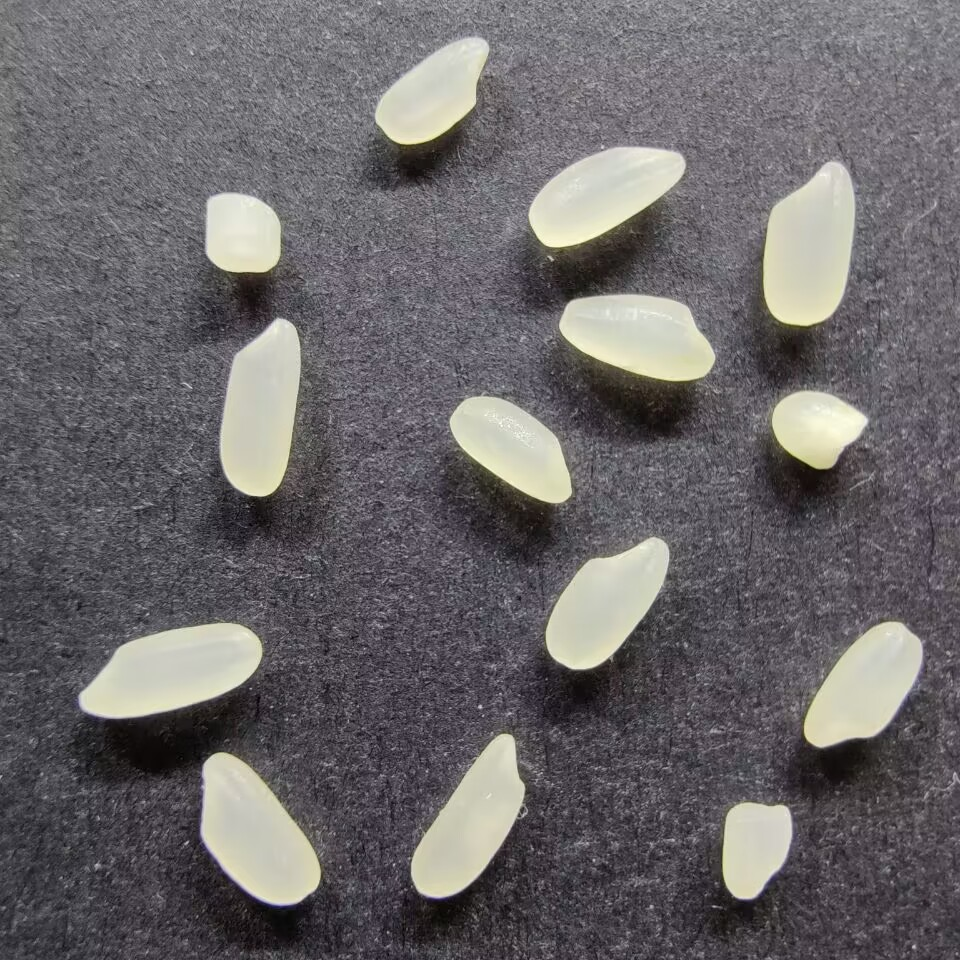broken: (770, 388, 872, 470), (720, 800, 793, 901), (202, 190, 284, 274)
rice: (407, 730, 527, 900), (199, 748, 322, 905), (75, 622, 263, 720), (542, 536, 671, 671), (527, 146, 688, 247), (800, 619, 925, 749), (761, 159, 855, 325), (216, 317, 301, 497), (448, 395, 576, 505), (370, 34, 492, 147), (556, 292, 714, 379)
